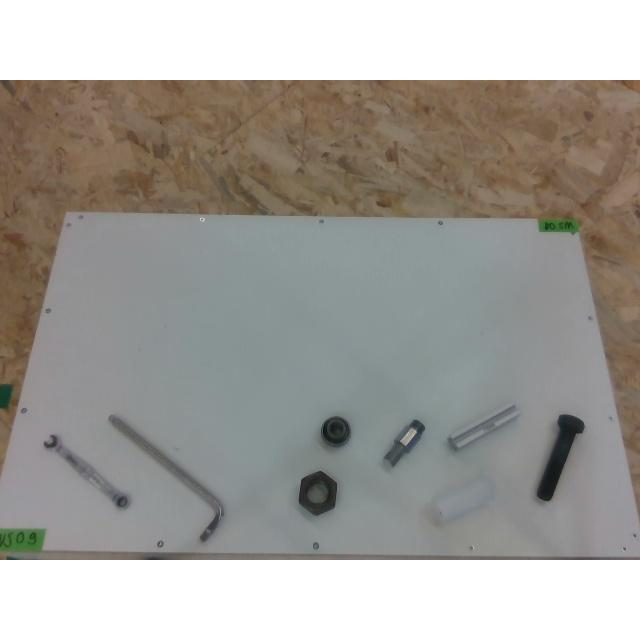AllenKey: (109, 415, 224, 541)
Axis2: (382, 420, 424, 464)
Bearing2: (322, 415, 351, 443)
F20_20_G: (447, 402, 519, 448)
M20_100: (536, 414, 584, 502)
M30: (298, 471, 338, 515)
Spacer: (430, 481, 492, 521)
Wrench: (44, 438, 128, 507)
